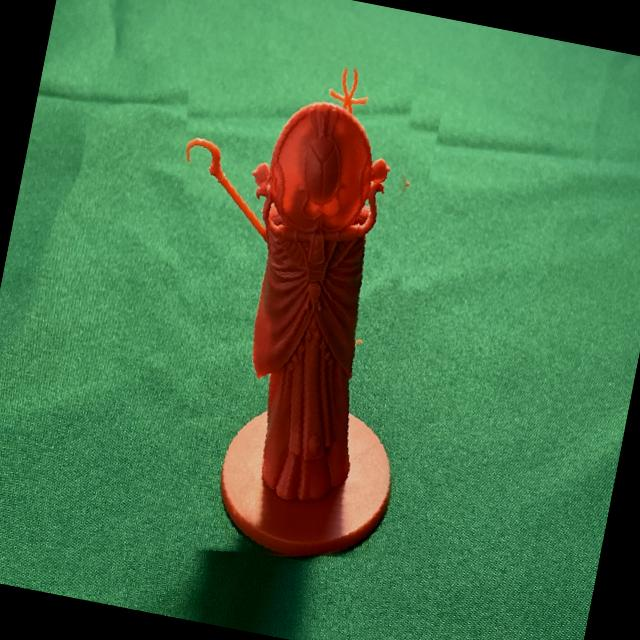amon: (116, 38, 463, 580)
